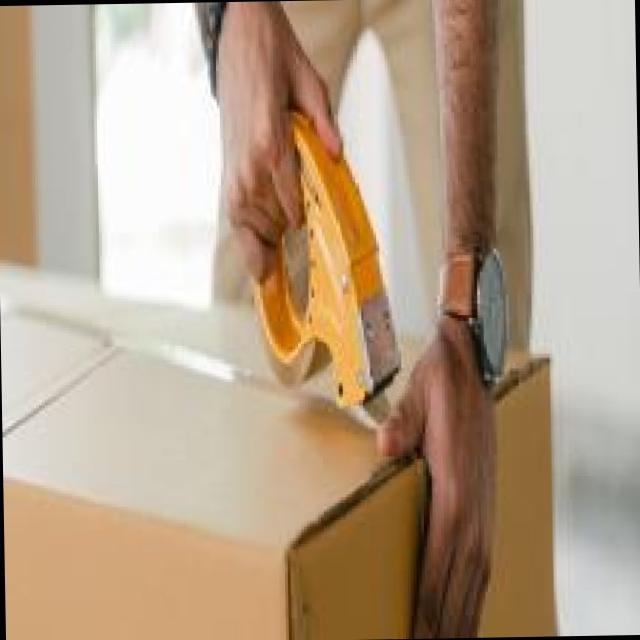box: (0, 258, 554, 640)
